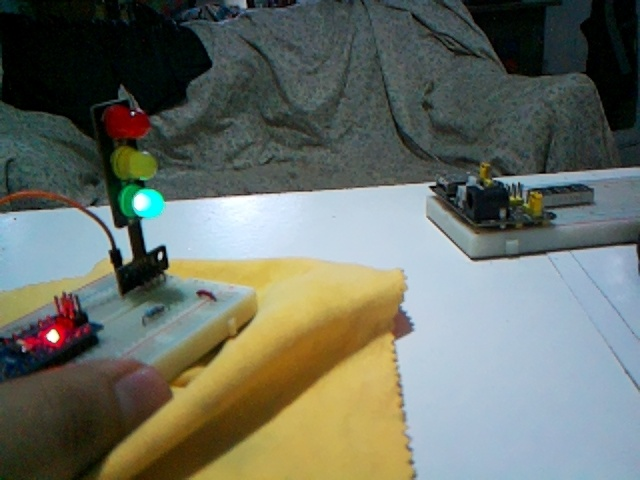traffic_light_green: (92, 100, 163, 227)
